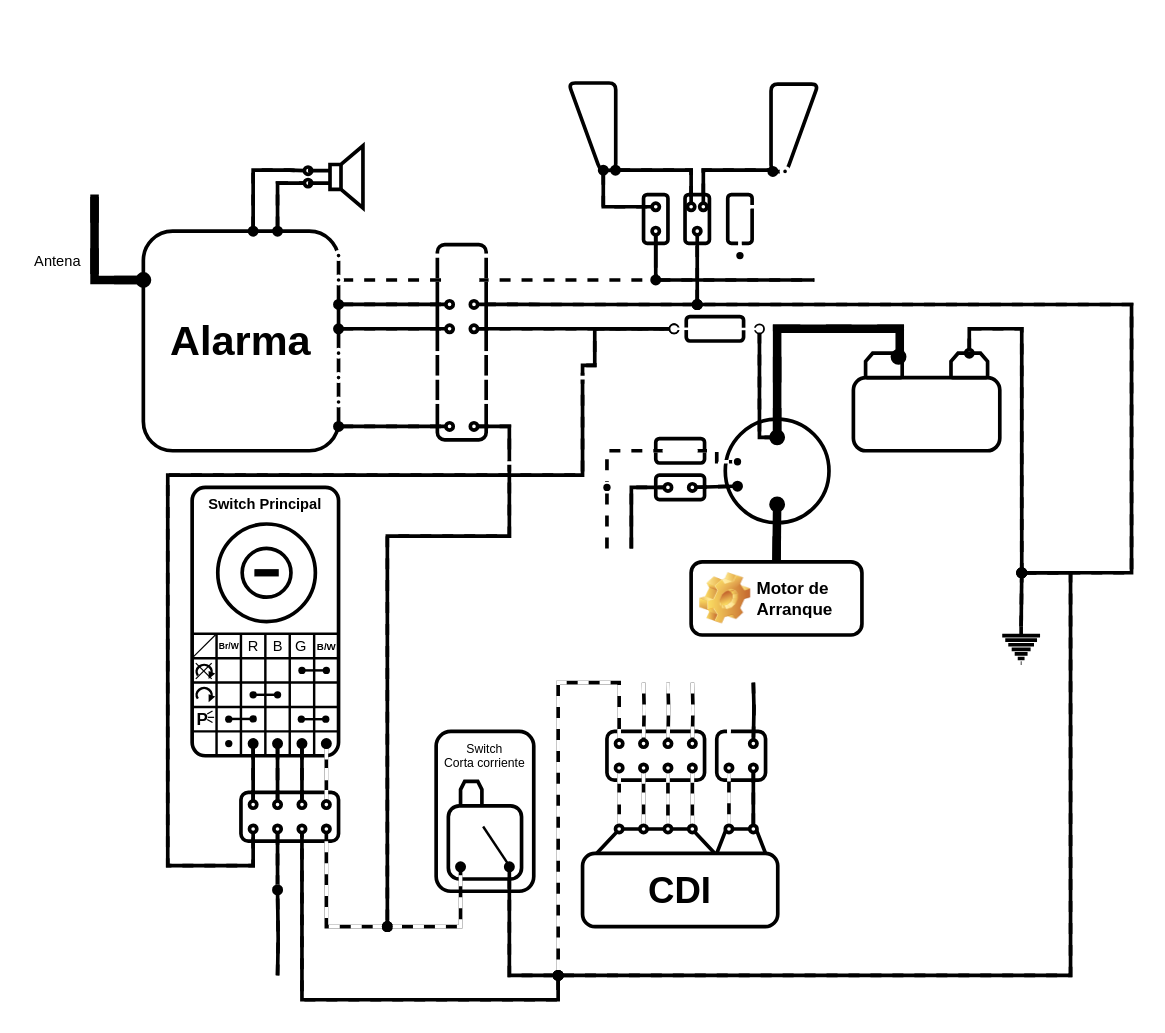
Image size: 1165x1033. Some labels were removed from this diagram. Each missing label, with the box of its shape:
+ - Bateria: (851, 375, 1001, 452)
Rele Arranque: (723, 417, 830, 524)
